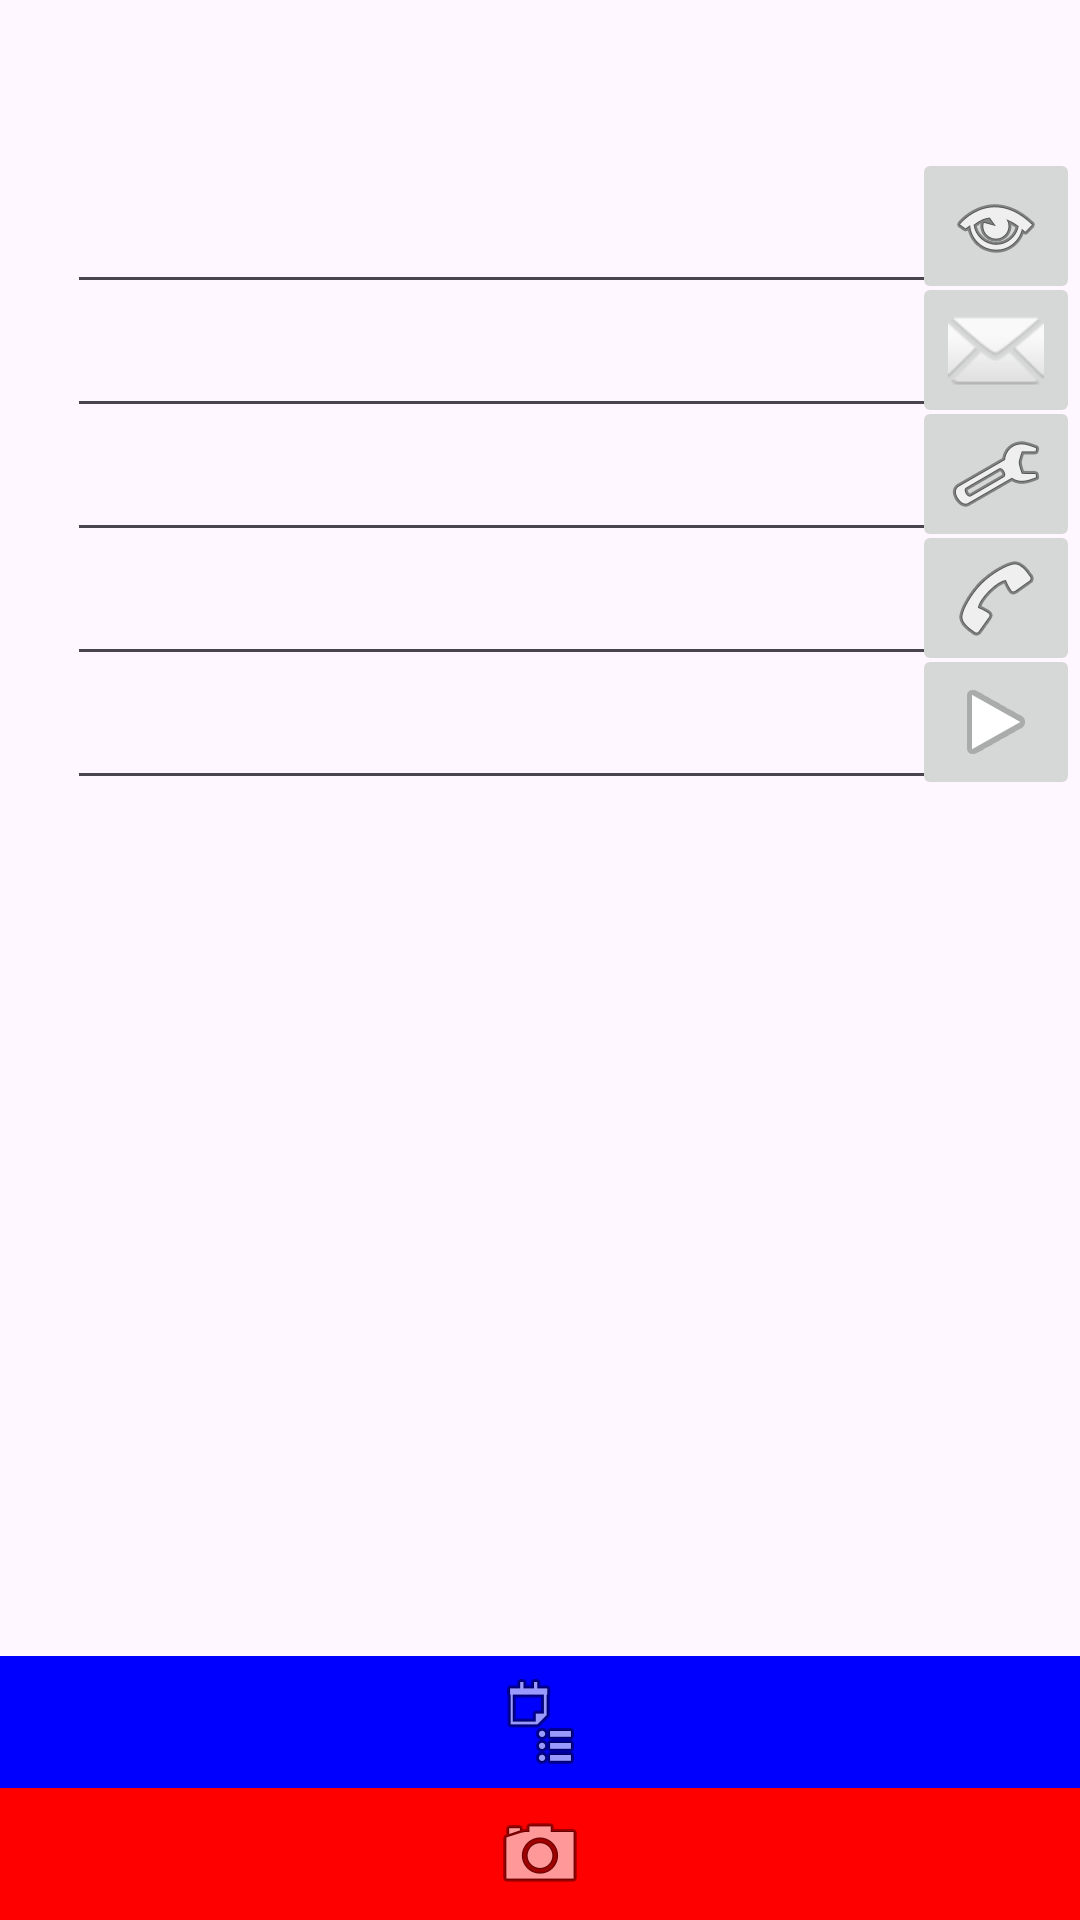

Named icons in this screenshot (1080 × 1920) and their centers, (x,y):
call: (996,598)
email: (996,350)
manage: (996,474)
play: (990,713)
view: (990,235)
